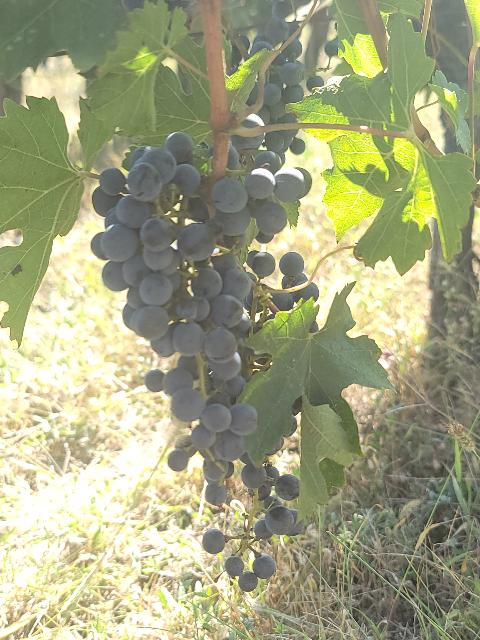grapes: (91, 132, 309, 491)
